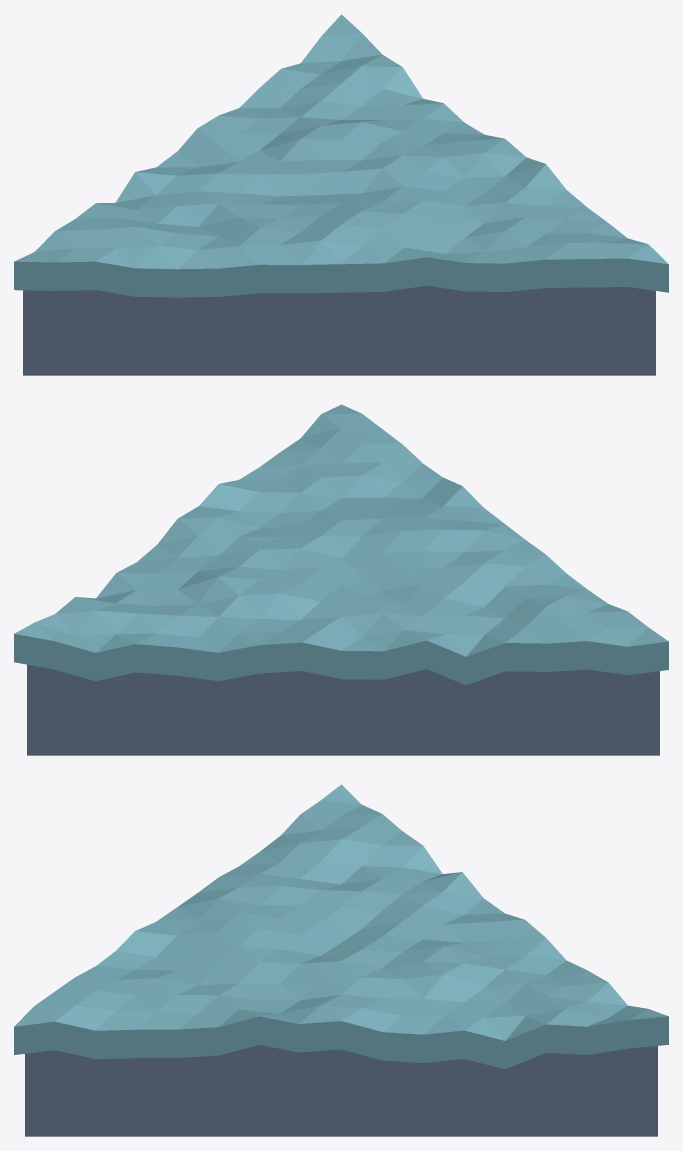
File: TILE_04_01_Water.fbx
3 renders of one model, top to bottom at view 1: azimuth 30°, elevation 25°; view 2: azimuth 150°, elevation 25°; view 3: azimuth 270°, elevation 25°, orthographic.
Parts seen in each view (by area): view 1: polySurface13, polySurface12; view 2: polySurface13, polySurface12; view 3: polySurface13, polySurface12.
Part boxes in pixels (<box>): polySurface13: <box>14,14,668,297</box>; polySurface12: <box>23,285,655,375</box>; polySurface13: <box>14,404,668,685</box>; polySurface12: <box>27,664,659,755</box>; polySurface13: <box>14,784,668,1069</box>; polySurface12: <box>25,1045,657,1136</box>.
Bounding box in the file's own units: 155 × 37.42 × 179.
